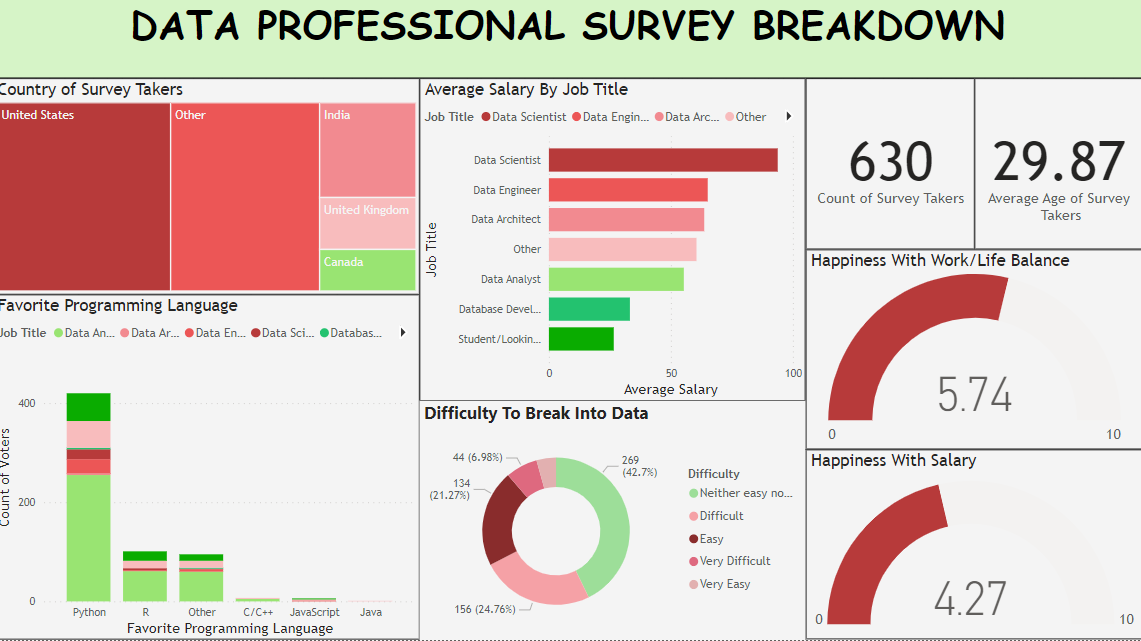

This screenshot's page, from the dashboard's own definition file:
{"tool":"powerbi","page":{"name":"Page 1","canvas":[1280,720],"ordinal":0},"visuals":[{"type":"textbox","box":[0,0,1280,96],"z":0},{"type":"card","fields":{"Values":["Count(Data Professional Survey.Unique ID)"]},"box":[905.7,96,187.8,190.6],"z":1000},{"type":"card","fields":{"Values":["Avg(Data Professional Survey.Q10 - Current Age)"]},"box":[1093.6,96,186.4,190.6],"z":2000},{"type":"barChart","title":"Average Salary By Job Title","fields":{"Category":["Data Professional Survey.Q1 - Which Title Best Fits your Current Role?.1"],"Y":["Avg(Data Professional Survey.Average_Salary)"],"Series":["Data Professional Survey.Q1 - Which Title Best Fits your Current Role?.1"]},"box":[475.8,96,429.9,359],"z":2001},{"type":"columnChart","title":"Favorite Programming Language","fields":{"Category":["Data Professional Survey.Q5 - Favorite Programming Language.1"],"Y":["CountNonNull(Data Professional Survey.Unique ID)"],"Series":["Data Professional Survey.Q1 - Which Title Best Fits your Current Role?.1"]},"box":[0,336.7,475.8,384],"z":2002},{"type":"treemap","title":"Country of Survey Takers","fields":{"Group":["Data Professional Survey.Q11 - Which Country do you live in?.1"],"Values":["CountNonNull(Data Professional Survey.Q11 - Which Country do you live in?.1)"]},"box":[0,96,475.8,240.7],"z":2003},{"type":"gauge","title":"Happiness With Work/Life Balance","fields":{"Y":["Avg(Data Professional Survey.Q6 - How Happy are you in your Current Position with the following? (Work/Life Balance))"],"MinValue":["Min(Data Professional Survey.Q6 - How Happy are you in your Current Position with the following? (Work/Life Balance))"],"MaxValue":["Max(Data Professional Survey.Q6 - How Happy are you in your Current Position with the following? (Work/Life Balance))"]},"box":[905.7,286.6,374.3,222.6],"z":2004},{"type":"gauge","title":"Happiness With Salary","fields":{"Y":["Avg(Data Professional Survey.Q6 - How Happy are you in your Current Position with the following? (Salary))"],"MinValue":["Min(Data Professional Survey.Q6 - How Happy are you in your Current Position with the following? (Salary))"],"MaxValue":["Max(Data Professional Survey.Q6 - How Happy are you in your Current Position with the following? (Salary))"]},"box":[905.7,509.2,374.3,211.5],"z":2005},{"type":"donutChart","title":"Difficulty To Break Into Data","fields":{"Category":["Data Professional Survey.Q7 - How difficult was it for you to break into Data?"],"Y":["CountNonNull(Data Professional Survey.Q7 - How difficult was it for you to break into Data?)"]},"box":[475.8,455,429.9,265.7],"z":2006}]}

Visuals, with their boxes in screenshot pixels (x1, y1, x2, y2), scaled from the page's 1280x720 canvas onto the 1141x641 screenshot:
textbox: (x1=0, y1=0, x2=1140, y2=85)
card - Count(Data Professional Survey.Unique ID): (x1=807, y1=85, x2=975, y2=255)
card - Avg(Data Professional Survey.Q10 - Current Age): (x1=975, y1=85, x2=1140, y2=255)
"Average Salary By Job Title" barChart: (x1=424, y1=85, x2=807, y2=405)
"Favorite Programming Language" columnChart: (x1=0, y1=300, x2=424, y2=640)
"Country of Survey Takers" treemap: (x1=0, y1=85, x2=424, y2=300)
"Happiness With Work/Life Balance" gauge: (x1=807, y1=255, x2=1140, y2=453)
"Happiness With Salary" gauge: (x1=807, y1=453, x2=1140, y2=640)
"Difficulty To Break Into Data" donutChart: (x1=424, y1=405, x2=807, y2=640)
